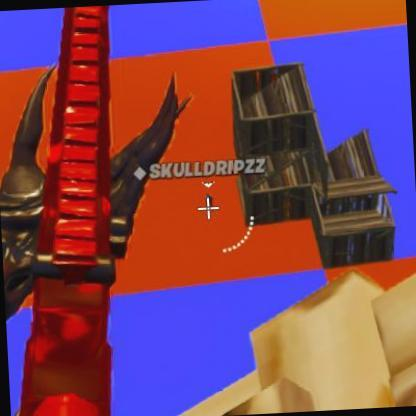person: (205, 189, 216, 204)
